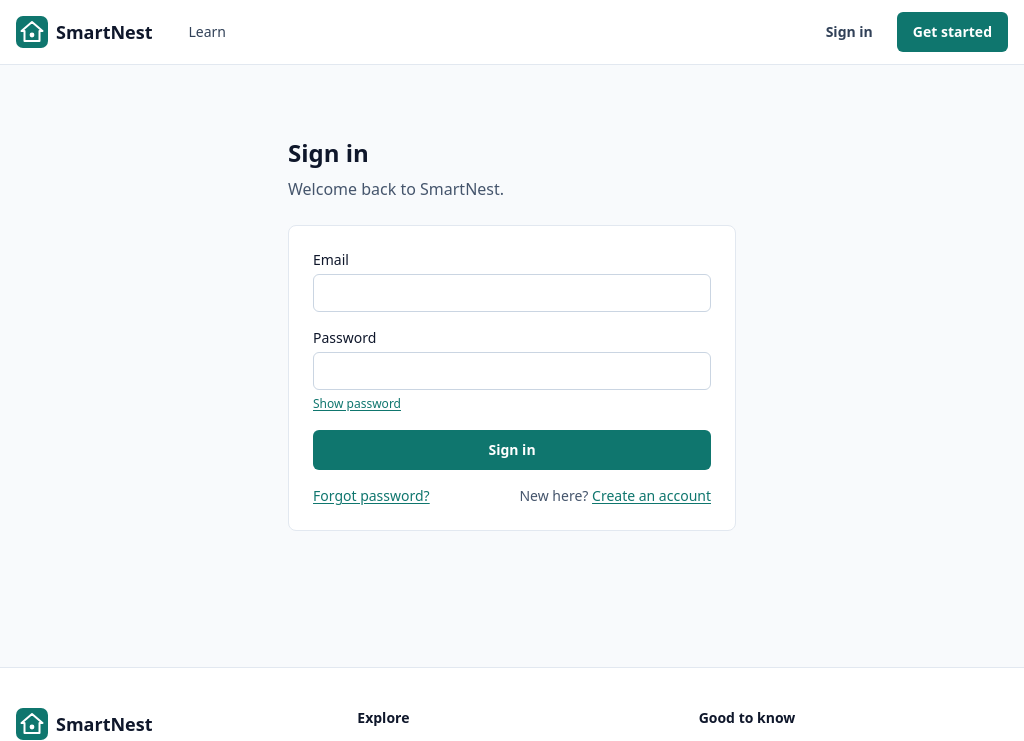
Scenario: sign in › shows the throttling message when rate limited
Type "asha@example.com" into the field labelled "Email" at (512, 293), box top-left (313, 274), bottom-right (711, 312)
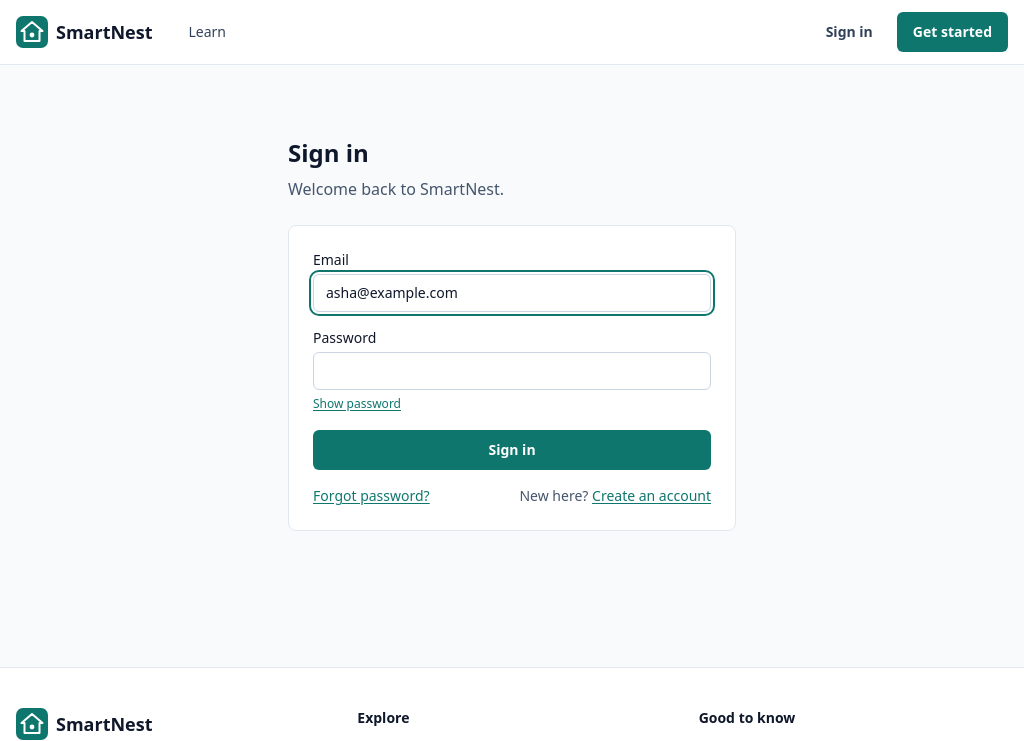
Type "x" into the password field labelled "Password" at (512, 371), box top-left (313, 352), bottom-right (711, 390)
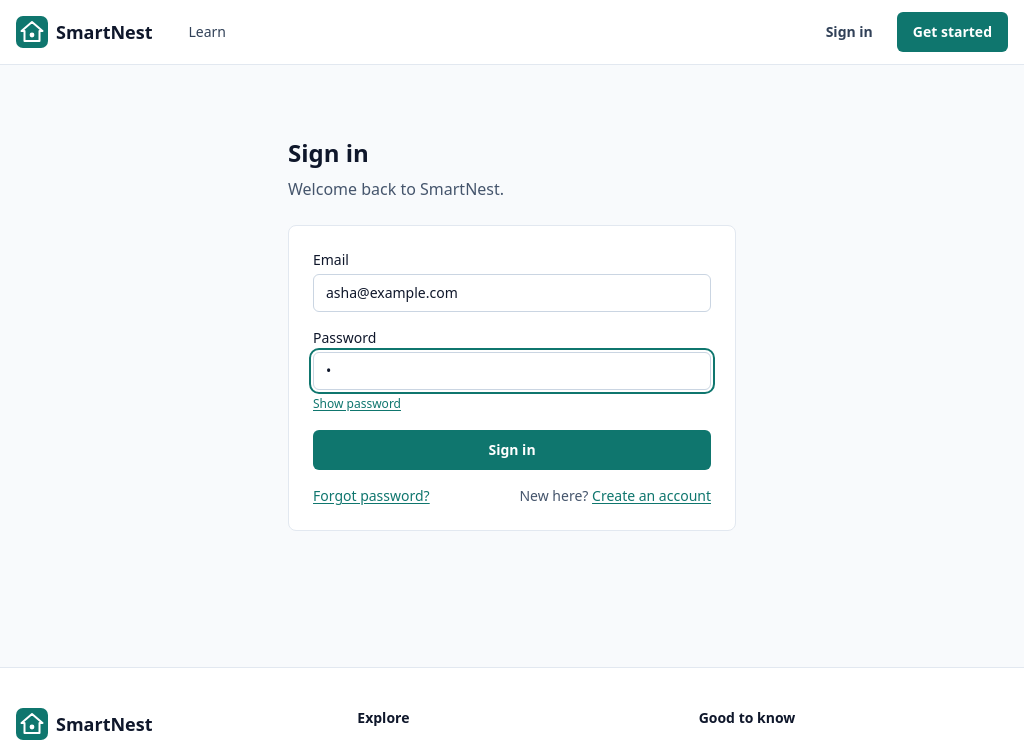
Click the button "Sign in" at (512, 450), box top-left (313, 430), bottom-right (711, 470)
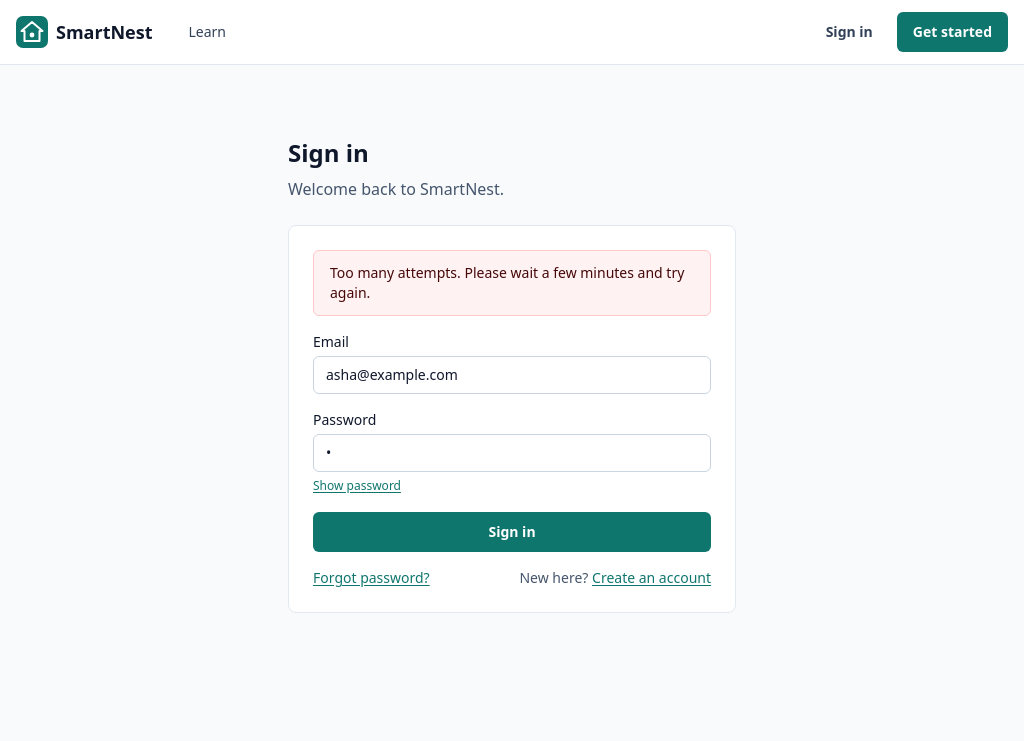
Now the message shows "Too many attempts", box top-left (330, 263), bottom-right (684, 302)
